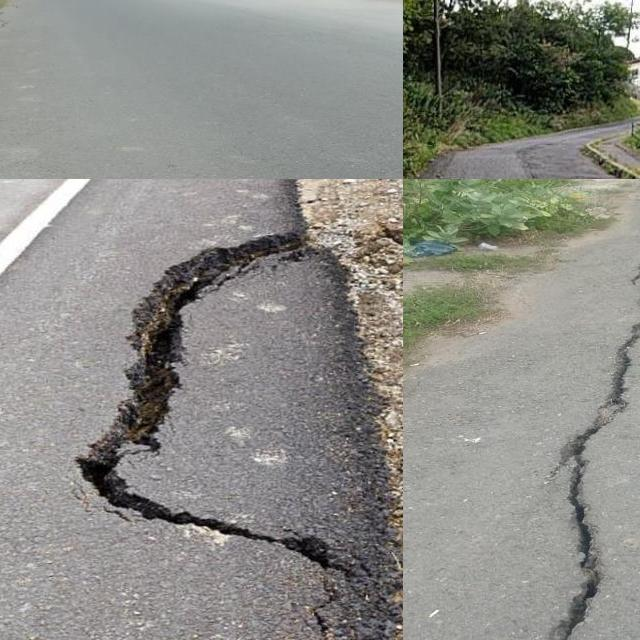Memanjang: (513, 233, 640, 640)
Pinggir: (59, 212, 403, 586)
